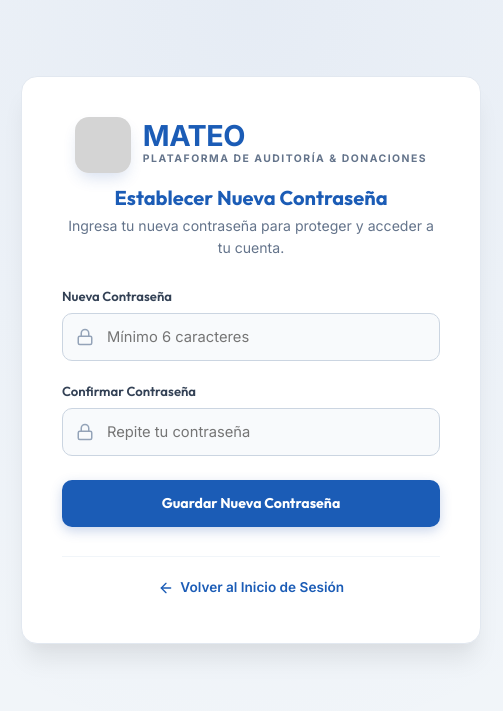
Scenario: UpdatePassword Component › validates password mismatch
Type "password123" into the password field labelled "Nueva Contraseña".
click(251, 337); type("password123")  # box [62,313,440,361]
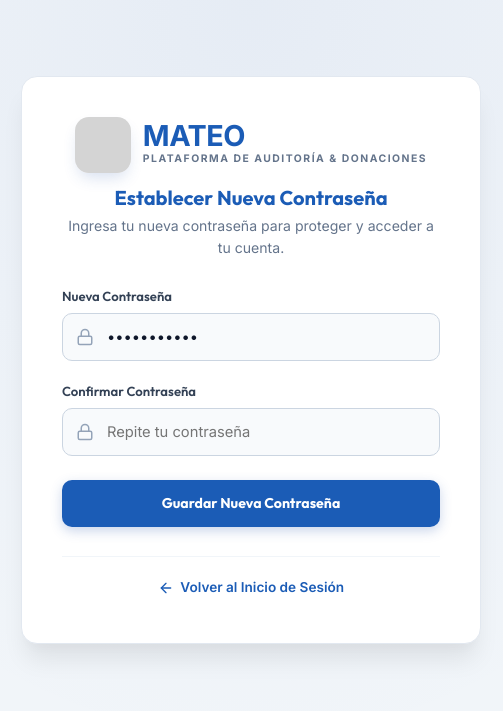
Type "password456" into the password field labelled "Confirmar Contraseña".
click(251, 432); type("password456")  # box [62,408,440,456]
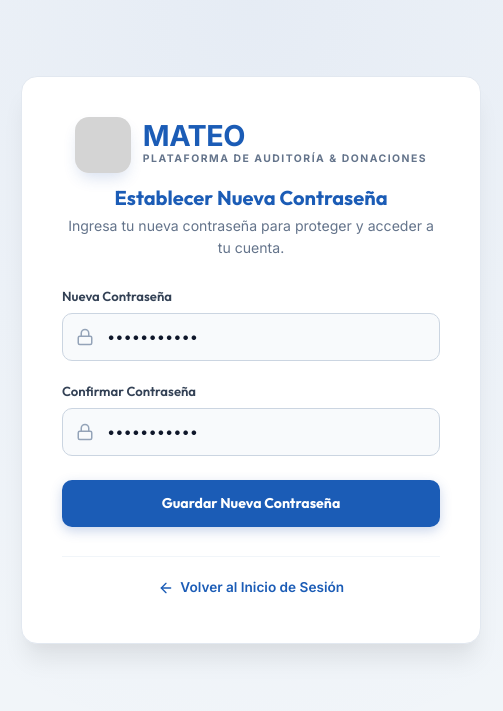
Click the button "Guardar Nueva Contraseña".
click(251, 503)  # box [62,480,440,527]
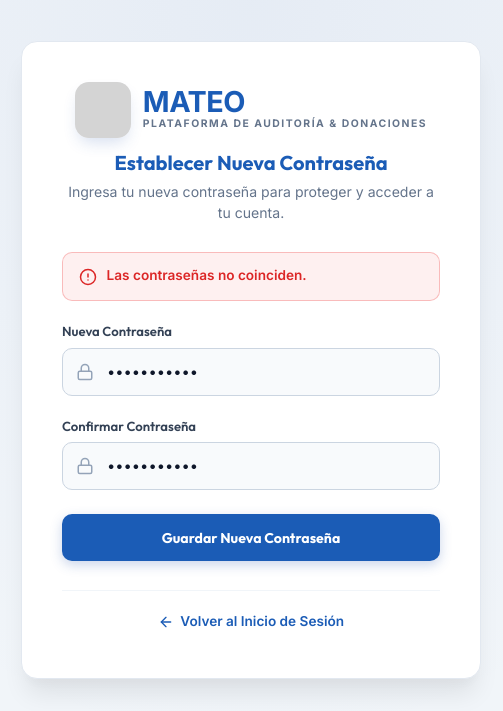
Check: the text "Las contraseñas no coinciden." is shown, box [107,266,307,286]
